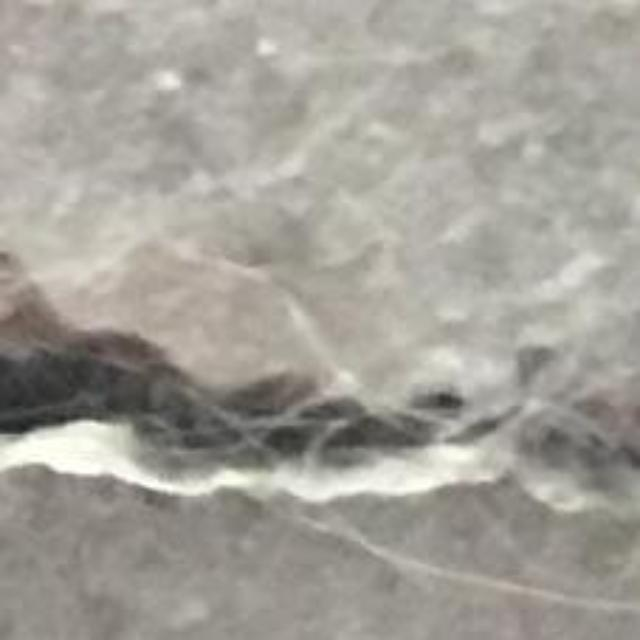crack: (0, 251, 639, 507)
